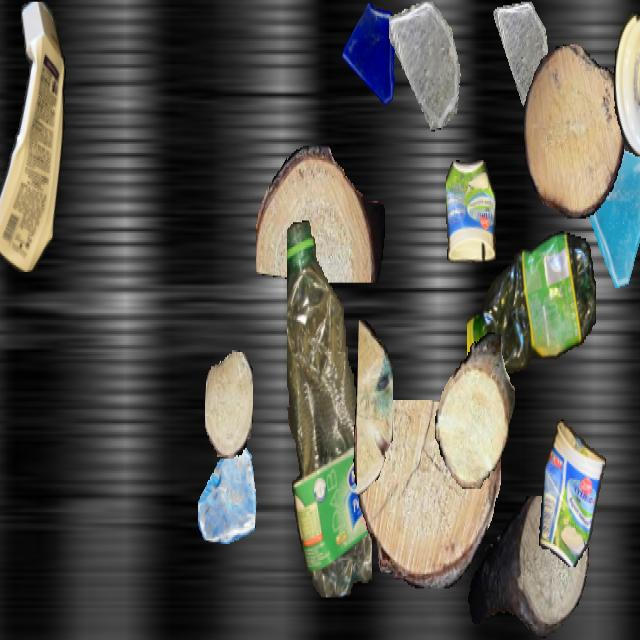glass: (578, 134, 640, 294), (389, 2, 461, 130), (341, 1, 405, 116), (198, 439, 256, 542), (493, 2, 551, 105), (624, 54, 640, 220)
plastic: (287, 218, 371, 596), (467, 224, 595, 388), (0, 2, 70, 272), (537, 420, 607, 566), (446, 160, 496, 263), (614, 2, 640, 180)
wood: (353, 400, 501, 588), (467, 496, 589, 638), (524, 45, 624, 218), (256, 146, 384, 281), (435, 332, 515, 489), (357, 320, 393, 494), (205, 350, 253, 457)
